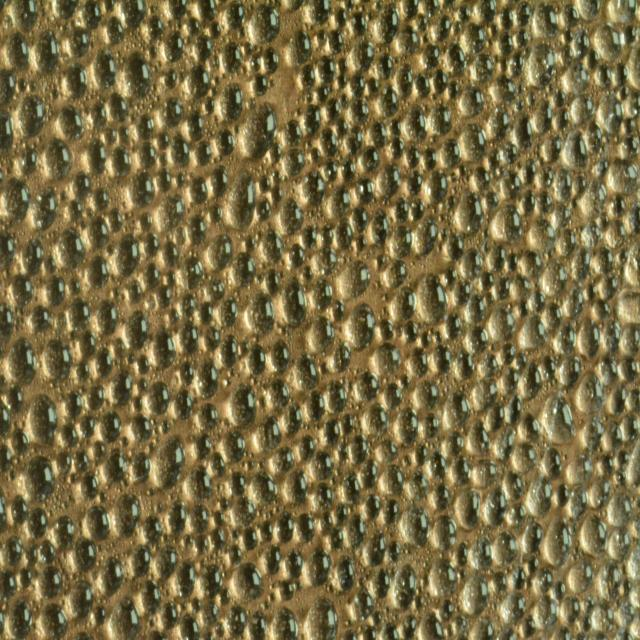dr: (55, 202, 156, 224), (242, 98, 277, 161), (541, 390, 577, 446), (154, 434, 187, 493), (226, 170, 256, 229), (104, 597, 145, 640), (28, 394, 60, 449), (303, 592, 339, 640), (0, 176, 30, 233), (447, 189, 484, 235), (416, 272, 448, 323), (488, 204, 526, 245), (7, 341, 39, 388), (542, 520, 572, 570), (23, 458, 58, 500), (281, 274, 307, 330), (43, 338, 73, 386), (123, 50, 152, 99), (424, 556, 458, 597), (576, 368, 605, 416), (337, 260, 373, 298), (114, 491, 143, 538), (231, 385, 259, 433), (456, 122, 488, 164), (578, 515, 610, 557), (37, 601, 71, 640), (43, 137, 73, 181), (597, 560, 627, 604), (399, 506, 432, 546), (231, 564, 264, 604), (453, 485, 482, 530), (249, 3, 280, 44), (31, 184, 58, 231), (347, 304, 375, 349), (607, 158, 640, 196), (297, 348, 324, 394), (594, 22, 625, 62), (148, 327, 178, 368), (246, 296, 276, 337), (246, 472, 280, 508), (578, 316, 604, 363), (180, 472, 216, 505), (19, 94, 46, 137), (597, 96, 626, 136), (51, 232, 85, 266), (194, 358, 222, 399), (487, 305, 518, 342), (528, 43, 554, 87), (563, 129, 589, 173), (34, 28, 58, 75), (567, 555, 594, 596), (305, 547, 332, 587), (232, 253, 258, 294), (58, 102, 86, 140), (128, 170, 156, 208), (371, 344, 404, 376), (516, 318, 549, 350), (395, 560, 417, 608), (74, 535, 100, 575), (278, 196, 304, 236), (60, 61, 88, 98), (430, 515, 458, 552), (5, 34, 32, 72), (10, 0, 40, 34), (73, 606, 103, 640), (269, 606, 299, 640), (444, 389, 470, 428), (471, 374, 498, 411), (460, 580, 490, 613), (459, 22, 488, 56), (161, 190, 185, 231), (491, 532, 518, 568), (220, 80, 243, 122), (288, 29, 314, 66), (110, 368, 134, 408), (84, 508, 113, 541), (412, 379, 441, 412), (114, 238, 139, 276), (101, 556, 126, 594), (532, 595, 559, 630), (93, 49, 117, 88), (38, 566, 64, 602), (375, 162, 401, 198), (541, 260, 567, 296), (365, 402, 391, 438), (527, 478, 551, 517), (533, 1, 558, 38), (466, 420, 491, 457), (139, 573, 161, 615), (211, 228, 232, 272), (484, 486, 507, 526), (563, 60, 590, 94), (608, 490, 632, 528), (396, 408, 420, 446), (312, 317, 336, 355), (8, 601, 34, 636), (258, 419, 284, 454), (22, 235, 44, 276), (488, 74, 518, 104), (218, 331, 241, 370), (364, 528, 387, 567), (528, 220, 556, 252), (107, 450, 131, 487), (70, 581, 94, 618), (85, 253, 111, 287), (585, 478, 611, 512), (55, 512, 77, 552), (403, 106, 428, 141), (415, 220, 438, 258), (300, 170, 324, 206), (223, 430, 247, 466), (391, 223, 415, 259), (306, 388, 328, 427), (375, 5, 398, 42), (233, 494, 258, 528), (180, 256, 204, 291), (388, 290, 416, 320), (69, 294, 91, 332), (281, 402, 304, 438), (65, 25, 90, 58), (186, 66, 211, 99), (396, 21, 417, 60), (518, 364, 540, 401), (288, 471, 310, 508), (269, 376, 291, 413), (186, 507, 212, 538), (563, 287, 586, 322), (468, 53, 493, 85), (570, 96, 595, 128), (582, 418, 602, 458), (501, 592, 526, 624), (1, 531, 25, 564), (459, 86, 483, 119), (119, 0, 147, 28), (565, 458, 593, 486), (378, 466, 406, 494), (489, 108, 512, 142), (586, 179, 609, 213), (350, 40, 376, 70), (370, 209, 390, 248), (620, 285, 640, 324), (176, 560, 197, 597), (246, 344, 268, 379), (262, 230, 284, 265), (130, 452, 154, 484), (590, 601, 614, 633), (98, 299, 119, 335), (626, 432, 640, 486), (419, 613, 447, 640), (608, 0, 638, 25), (99, 411, 121, 445), (187, 213, 209, 247), (512, 118, 534, 152), (610, 527, 632, 561), (326, 379, 348, 413), (580, 217, 604, 248), (513, 442, 537, 473), (224, 605, 248, 636), (311, 450, 335, 481), (336, 554, 355, 593), (87, 137, 107, 174), (500, 168, 523, 200), (46, 274, 67, 309), (296, 510, 317, 545), (170, 134, 192, 167), (429, 103, 451, 136), (605, 418, 624, 456), (157, 542, 175, 582), (517, 413, 541, 443), (314, 481, 338, 511), (150, 381, 171, 415), (11, 276, 34, 307), (127, 316, 149, 348), (131, 412, 153, 444), (87, 216, 109, 248), (445, 41, 467, 73), (606, 217, 628, 249), (471, 460, 497, 487), (342, 471, 362, 506), (282, 149, 306, 178), (328, 186, 352, 215), (110, 146, 132, 177), (162, 97, 184, 128), (160, 238, 182, 269), (221, 41, 243, 72), (559, 356, 581, 387), (302, 103, 322, 137), (523, 520, 543, 554), (323, 416, 343, 450), (470, 614, 496, 640), (163, 32, 184, 64), (0, 107, 14, 155), (198, 402, 219, 434), (378, 84, 399, 116), (543, 448, 564, 480), (555, 168, 573, 205), (132, 541, 151, 576), (29, 305, 51, 335), (200, 320, 220, 353), (200, 566, 222, 596), (504, 472, 526, 502), (357, 374, 379, 404), (333, 340, 353, 373), (626, 537, 640, 584), (300, 428, 316, 469), (185, 111, 206, 142), (316, 54, 337, 85), (440, 139, 461, 170), (493, 430, 514, 461), (574, 244, 592, 280), (169, 501, 186, 539), (425, 174, 448, 202), (50, 0, 80, 21), (210, 164, 228, 199), (215, 127, 236, 157), (604, 319, 622, 354), (336, 217, 355, 250), (318, 126, 338, 157), (364, 490, 384, 521), (482, 400, 499, 436), (474, 536, 492, 570), (0, 306, 17, 342), (225, 0, 244, 32), (281, 118, 300, 150), (275, 441, 294, 473), (11, 428, 31, 458), (180, 323, 200, 353), (248, 610, 268, 640), (60, 421, 80, 451), (536, 101, 554, 134), (66, 386, 82, 423), (109, 91, 128, 122), (446, 233, 465, 264), (312, 279, 331, 310), (457, 350, 476, 381), (271, 341, 290, 372), (81, 1, 102, 29), (560, 594, 580, 623), (394, 63, 412, 95), (307, 0, 330, 25), (375, 441, 400, 464), (72, 170, 91, 200), (85, 385, 106, 412), (347, 98, 368, 125), (0, 72, 17, 105), (570, 490, 587, 523), (137, 140, 157, 168), (347, 11, 367, 39), (318, 246, 338, 274), (386, 259, 406, 287), (433, 346, 453, 374), (420, 414, 440, 442), (451, 456, 471, 484), (287, 547, 303, 582), (176, 392, 194, 423), (220, 296, 238, 327), (143, 515, 162, 544), (345, 125, 364, 154), (383, 382, 404, 408), (359, 461, 380, 487), (357, 588, 373, 622), (265, 543, 282, 575), (359, 146, 379, 173), (525, 248, 543, 278), (408, 473, 428, 500), (54, 449, 72, 479), (194, 34, 213, 62), (296, 64, 315, 92), (544, 134, 563, 162), (463, 250, 482, 278), (557, 324, 576, 352), (540, 351, 556, 384), (468, 294, 485, 325), (352, 433, 369, 464), (435, 480, 452, 511), (81, 472, 99, 501), (228, 468, 246, 497), (412, 70, 430, 99), (504, 394, 522, 423), (180, 613, 200, 639), (19, 146, 38, 173), (178, 358, 194, 390), (95, 348, 111, 380), (210, 450, 227, 480), (621, 133, 638, 163), (454, 276, 471, 306), (431, 450, 448, 480), (137, 112, 155, 140), (190, 176, 208, 204), (356, 177, 374, 205), (370, 120, 388, 148), (571, 31, 589, 59), (502, 366, 520, 394), (600, 359, 618, 387), (508, 502, 526, 530), (194, 436, 214, 461), (554, 202, 573, 228), (524, 554, 543, 580), (560, 4, 578, 31), (608, 390, 626, 417), (474, 1, 496, 23), (628, 43, 639, 87), (107, 15, 123, 45), (586, 124, 602, 154), (622, 354, 638, 384), (1, 233, 16, 265), (160, 600, 177, 628), (557, 230, 576, 255), (468, 329, 487, 354), (594, 298, 612, 324), (520, 612, 538, 638), (31, 510, 47, 539), (596, 63, 612, 92), (475, 164, 491, 193), (491, 243, 507, 272), (624, 326, 640, 355), (514, 272, 530, 301), (278, 512, 294, 541), (143, 233, 160, 260), (424, 42, 441, 69), (197, 0, 216, 24), (273, 582, 297, 601), (14, 492, 27, 527), (410, 351, 428, 376), (492, 568, 507, 598), (90, 100, 106, 128), (0, 444, 14, 476), (10, 387, 26, 415), (182, 289, 198, 317), (208, 276, 224, 304), (599, 246, 615, 274), (538, 566, 554, 594), (92, 186, 109, 212), (195, 141, 212, 167), (377, 53, 394, 79), (351, 206, 368, 232), (545, 302, 562, 328), (618, 602, 635, 628), (453, 543, 470, 569), (327, 528, 344, 554), (350, 515, 363, 549), (624, 415, 639, 444), (79, 332, 95, 359), (139, 209, 155, 236), (164, 304, 182, 328), (288, 244, 306, 268), (349, 71, 366, 96), (264, 47, 279, 75), (201, 605, 221, 626), (399, 0, 419, 21), (243, 524, 258, 552), (446, 433, 465, 455), (73, 448, 89, 474), (156, 168, 172, 194), (301, 226, 317, 252), (536, 191, 554, 214), (378, 317, 396, 340), (143, 264, 160, 288), (155, 283, 172, 307), (327, 30, 344, 54), (613, 63, 630, 87), (331, 299, 348, 323), (208, 200, 222, 229), (375, 568, 389, 597), (110, 337, 126, 362), (265, 270, 281, 295), (580, 2, 602, 20), (629, 583, 640, 619), (92, 439, 106, 467), (128, 276, 142, 304), (522, 188, 536, 216), (446, 312, 460, 340), (512, 564, 526, 592), (394, 197, 409, 223), (554, 481, 569, 507), (261, 518, 276, 544), (629, 200, 640, 235), (2, 568, 14, 600), (0, 401, 12, 433), (482, 354, 498, 378), (168, 0, 187, 20), (499, 32, 513, 59), (326, 95, 341, 120), (515, 2, 530, 27), (404, 319, 419, 344), (373, 252, 390, 274), (499, 342, 516, 364), (628, 386, 640, 417), (432, 70, 448, 93), (554, 109, 570, 132), (602, 277, 618, 300), (80, 412, 94, 438), (424, 148, 438, 174), (384, 498, 398, 524), (243, 232, 258, 256), (341, 158, 356, 182), (381, 622, 401, 640), (148, 17, 164, 39), (198, 302, 214, 324), (508, 54, 524, 76), (483, 190, 499, 212), (529, 290, 545, 312), (256, 197, 271, 220), (334, 504, 349, 527), (361, 621, 379, 640), (75, 357, 89, 381), (390, 136, 404, 160), (524, 156, 536, 184), (440, 599, 456, 620), (408, 172, 423, 194), (485, 20, 500, 42), (323, 160, 338, 182), (496, 625, 518, 640), (340, 411, 355, 433), (212, 526, 225, 551), (41, 539, 55, 562), (254, 72, 268, 95), (437, 15, 451, 38), (585, 49, 599, 72), (403, 614, 417, 637), (0, 489, 7, 535), (628, 89, 639, 118), (67, 198, 82, 219), (108, 208, 121, 232), (573, 174, 586, 198), (148, 626, 170, 640), (539, 166, 553, 188), (320, 510, 334, 532), (18, 572, 36, 589), (504, 141, 519, 161), (163, 68, 177, 89), (218, 496, 232, 517), (412, 201, 426, 222), (166, 268, 178, 292), (424, 0, 440, 18), (554, 85, 566, 109), (416, 442, 428, 466), (118, 123, 131, 145), (103, 125, 117, 145), (458, 4, 472, 24), (446, 80, 460, 100), (488, 148, 500, 171), (514, 29, 527, 50), (515, 349, 528, 370), (69, 276, 83, 295), (622, 26, 636, 45), (585, 284, 599, 303), (480, 270, 494, 289), (27, 544, 39, 566), (406, 146, 418, 168), (302, 265, 314, 287), (498, 276, 510, 298), (555, 578, 566, 602), (136, 376, 149, 396), (195, 536, 208, 556), (388, 540, 401, 560), (220, 587, 236, 603), (618, 247, 629, 270), (447, 267, 458, 290), (334, 6, 346, 27), (315, 84, 329, 102), (368, 77, 380, 98), (500, 9, 513, 28), (613, 197, 626, 216), (506, 253, 519, 272), (597, 156, 608, 178), (157, 130, 169, 150), (181, 534, 193, 554), (259, 174, 271, 194), (187, 19, 201, 36), (455, 615, 469, 632), (321, 229, 334, 247), (517, 298, 530, 316), (553, 627, 571, 640), (341, 627, 359, 640), (138, 355, 150, 374), (0, 608, 8, 636), (209, 22, 222, 39), (230, 544, 243, 561), (0, 372, 11, 392), (249, 52, 260, 72), (602, 454, 612, 476), (214, 510, 226, 528), (632, 514, 640, 541), (390, 118, 401, 137), (618, 449, 629, 468), (615, 629, 634, 640), (446, 193, 458, 210), (598, 214, 610, 231), (484, 290, 496, 307), (356, 233, 366, 253), (175, 170, 186, 188), (159, 419, 171, 435), (214, 624, 226, 640), (272, 184, 282, 203), (316, 31, 327, 48), (338, 56, 349, 73), (400, 374, 411, 391), (421, 331, 432, 348), (100, 488, 109, 507), (157, 154, 169, 168), (310, 147, 321, 162), (526, 92, 537, 107), (573, 629, 588, 640), (372, 610, 383, 625), (458, 160, 467, 178), (337, 73, 347, 89), (134, 397, 144, 412), (616, 470, 627, 483), (402, 455, 412, 469), (204, 627, 214, 640), (192, 596, 200, 612), (620, 87, 629, 101), (449, 171, 458, 184), (434, 331, 443, 344), (483, 239, 490, 255), (121, 438, 130, 450), (346, 596, 354, 608), (635, 494, 640, 509), (346, 614, 352, 626), (128, 355, 134, 365)
